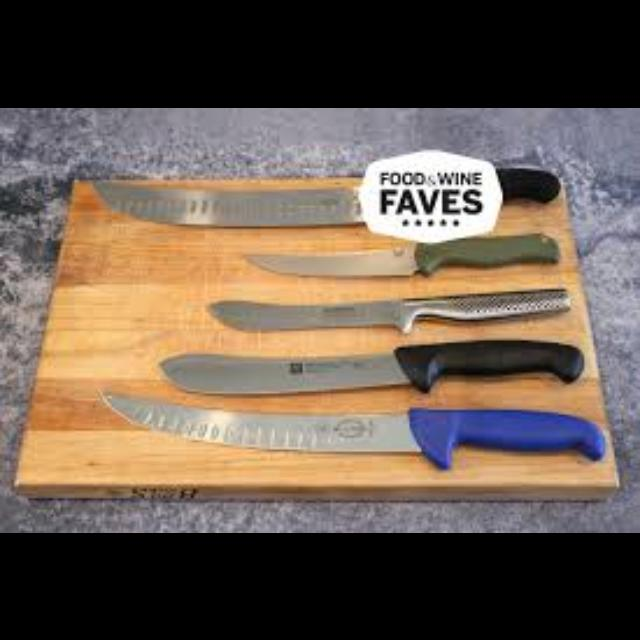Knife: (98, 387, 604, 468), (91, 163, 561, 225), (158, 338, 584, 392), (205, 286, 570, 332), (240, 231, 558, 277)
